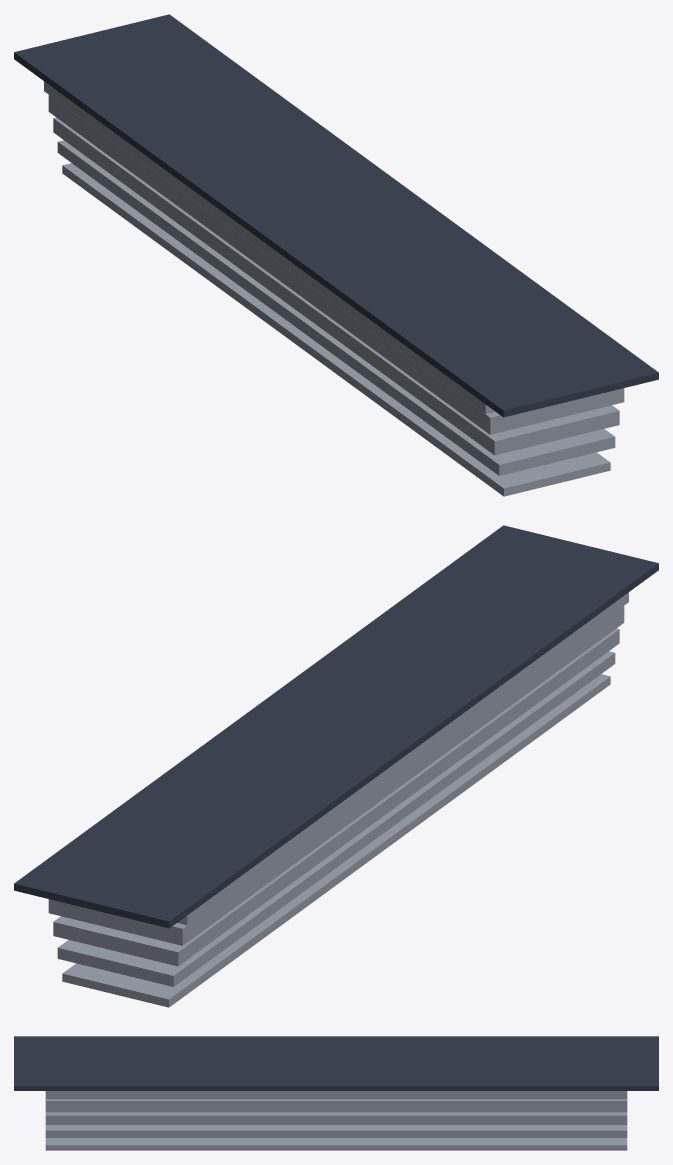
File: mainGrandstandNorth.glb
3 renders of one model, top to bottom at view 1: azimuth 30°, elevation 25°; view 2: azimuth 150°, elevation 25°; view 3: azimuth 270°, elevation 25°, orthographic. The views are drawn at different scales.
Visible parts, largest first — view 1: mainGrandstandNorth; view 2: mainGrandstandNorth; view 3: mainGrandstandNorth.
Boxes of the visible parts, box(x1,y1,x2,y2) form: mainGrandstandNorth: box(14, 14, 658, 496); mainGrandstandNorth: box(14, 525, 658, 1007); mainGrandstandNorth: box(14, 1036, 658, 1150).
Bounding box in the file's own units: 5.61 × 3.78 × 30.6.
